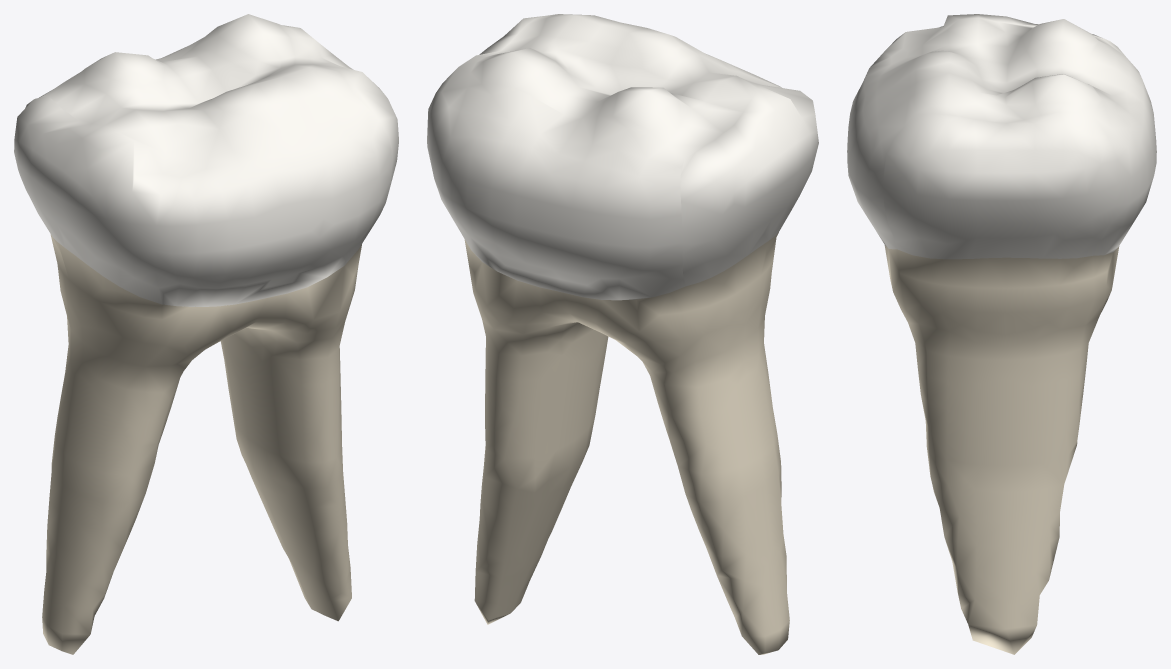
3 views of the same model, side by side, from view 1: azimuth 30°, elevation 25°; view 2: azimuth 150°, elevation 25°; view 3: azimuth 270°, elevation 25° (orthographic). The views are drawn at different scales.
Parts seen in each view (by area): view 1: root, V, O, D, M; view 2: root, L, O, D, M, V; view 3: root, M, O, L, V, D.
Boxes of the visible parts, x1=… form: root: x1=42, y1=234, x2=361, y2=654; V: x1=154, y1=94, x2=392, y2=306; O: x1=49, y1=14, x2=354, y2=153; D: x1=14, y1=96, x2=165, y2=304; M: x1=282, y1=25, x2=398, y2=189; root: x1=464, y1=232, x2=789, y2=654; L: x1=432, y1=84, x2=685, y2=300; O: x1=468, y1=14, x2=759, y2=158; D: x1=680, y1=83, x2=818, y2=286; M: x1=427, y1=16, x2=543, y2=176; V: x1=676, y1=37, x2=781, y2=87; root: x1=884, y1=245, x2=1119, y2=654; M: x1=883, y1=112, x2=1118, y2=259; O: x1=914, y1=18, x2=1094, y2=123; L: x1=1083, y1=34, x2=1156, y2=255; V: x1=847, y1=45, x2=922, y2=249; D: x1=884, y1=14, x2=1106, y2=52.
Bounding box in the file's own units: 9.74 × 17.26 × 8.7.
